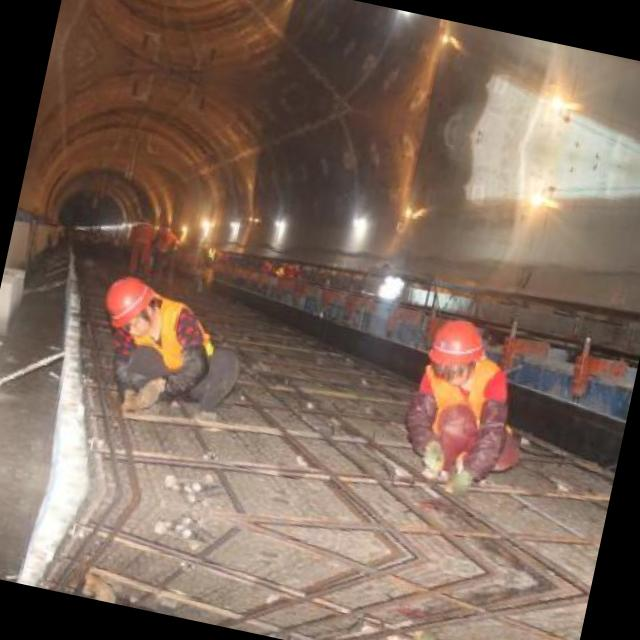helmet: (92, 262, 171, 348), (419, 308, 494, 396)
